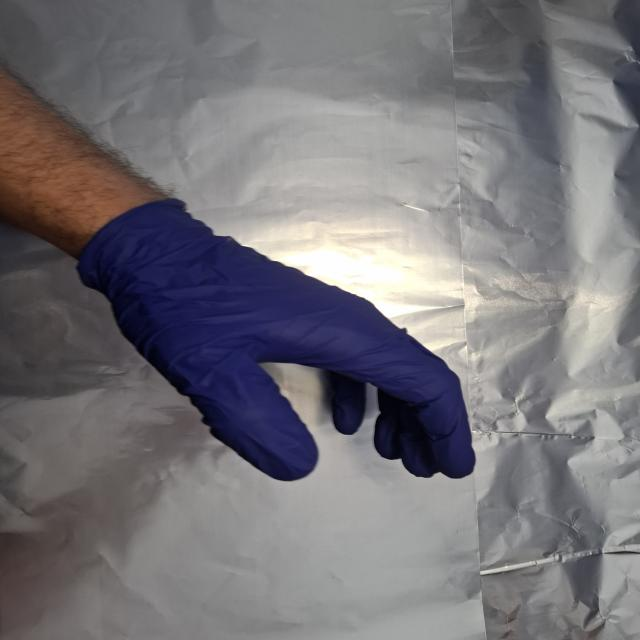glove_on: (76, 201, 480, 485)
